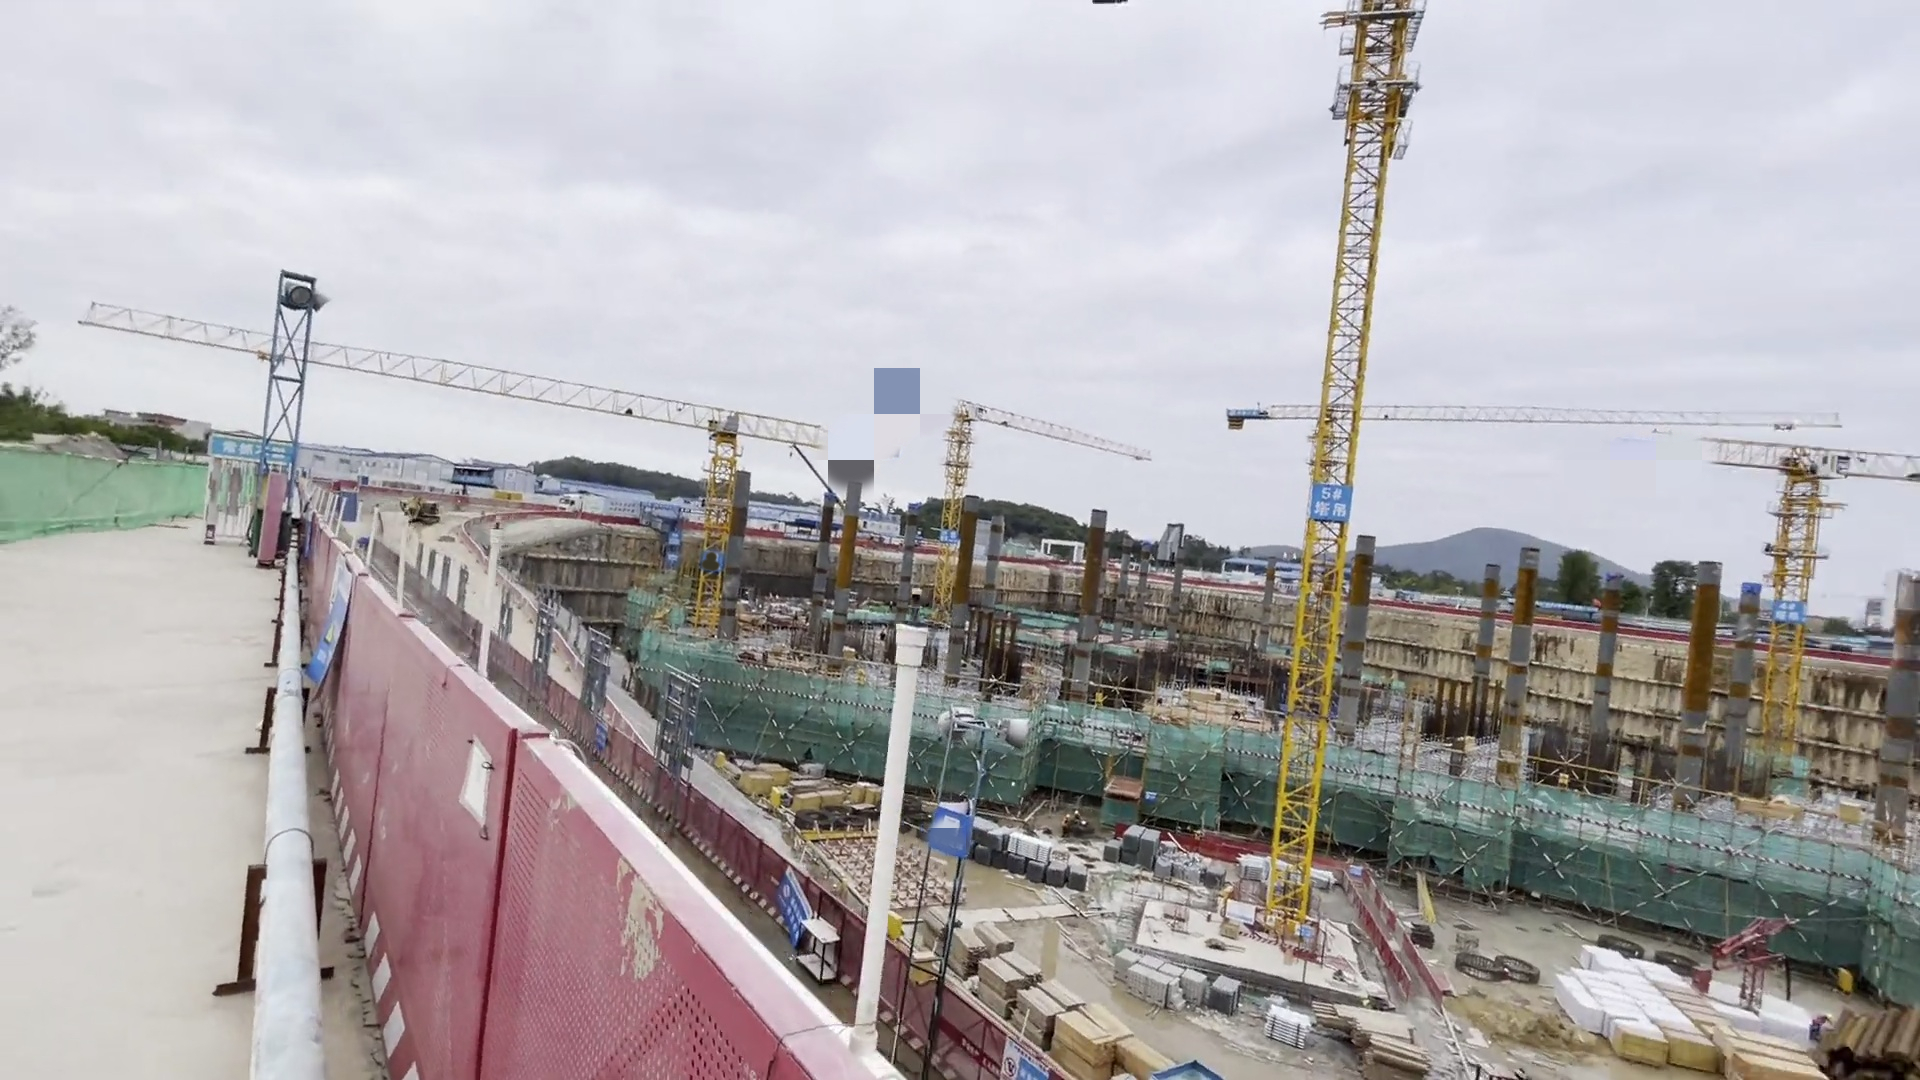board: (1655, 975, 1816, 1080), (1065, 996, 1166, 1073)
brick: (1108, 938, 1303, 1063)
fence: (266, 546, 1069, 1073)
scaffold: (1265, 996, 1317, 1044)
slogan: (298, 563, 355, 695), (766, 860, 827, 957), (212, 429, 299, 469), (986, 1039, 1064, 1080)
wood: (1302, 982, 1422, 1080)
